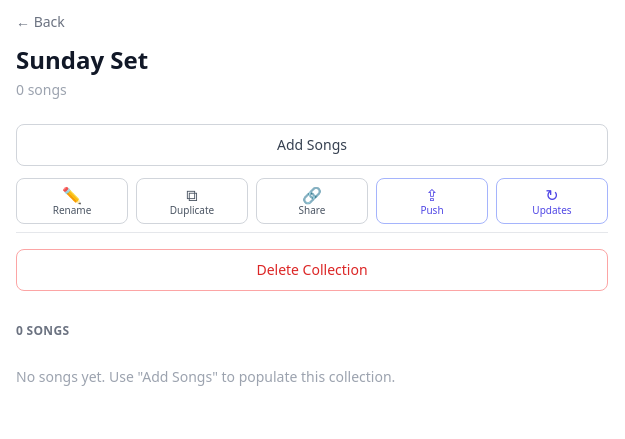
Test: CollectionDetailView — one-click Push Update › marks the link expired when the server says so
The width and height of the screenshot is (625, 439).
What coordinates should you click on to do the following:
click the button with aria-label "Push update"
I would click on:
 (432, 201)
Its box is [376,178,488,224].
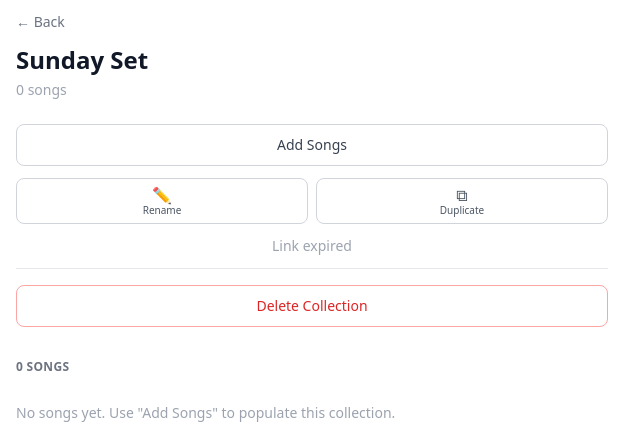
Now the text "Link expired" is shown, box [272,236,352,255]
